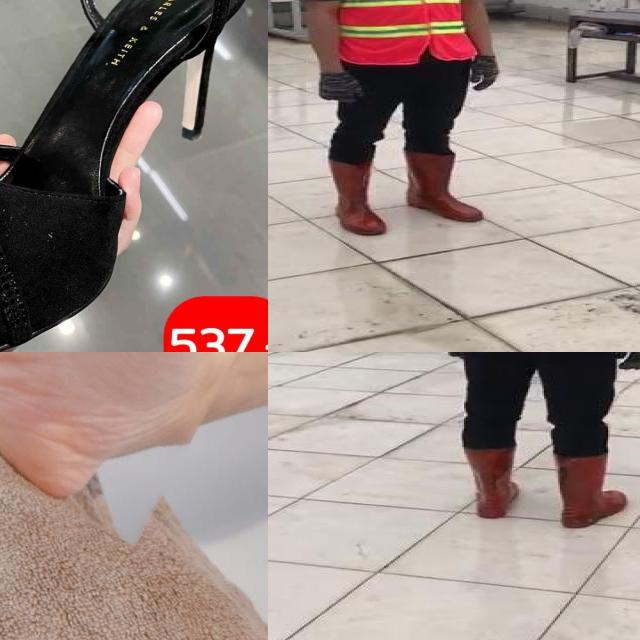Barefoots: (0, 352, 268, 496)
Sandals: (0, 0, 268, 352)
boots: (400, 149, 482, 225), (320, 151, 389, 237), (552, 451, 627, 528), (460, 443, 524, 520)
hand_glove: (310, 71, 367, 103), (477, 56, 504, 97), (618, 352, 640, 373)
person: (289, 0, 506, 237), (421, 352, 640, 542)
vest: (320, 0, 478, 64)
